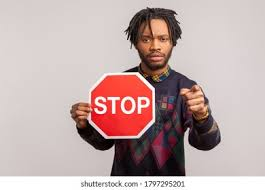stop sign: (87, 72, 155, 140)
